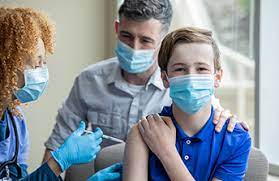with_mask: (4, 20, 52, 104), (168, 43, 215, 113), (120, 9, 156, 74)
